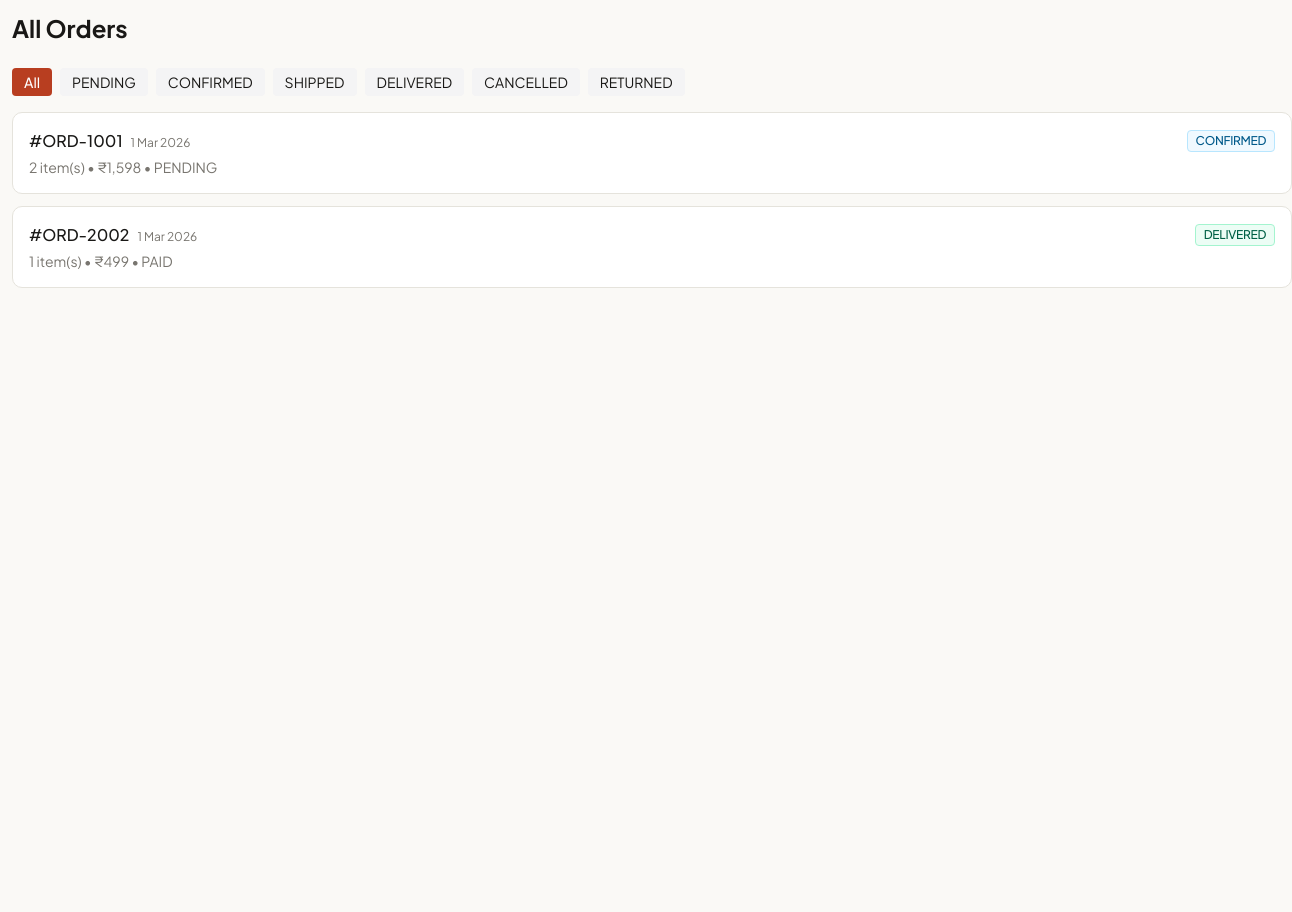
Test: Super Admin individual order navigation › opens the clicked order's details instead of the dashboard
Check: the text "#ORD-2002" is shown, box [29,224,129,245]
# Click the first order card
Click the text "#ORD-1001" at (36, 140), box [29,130,122,151]
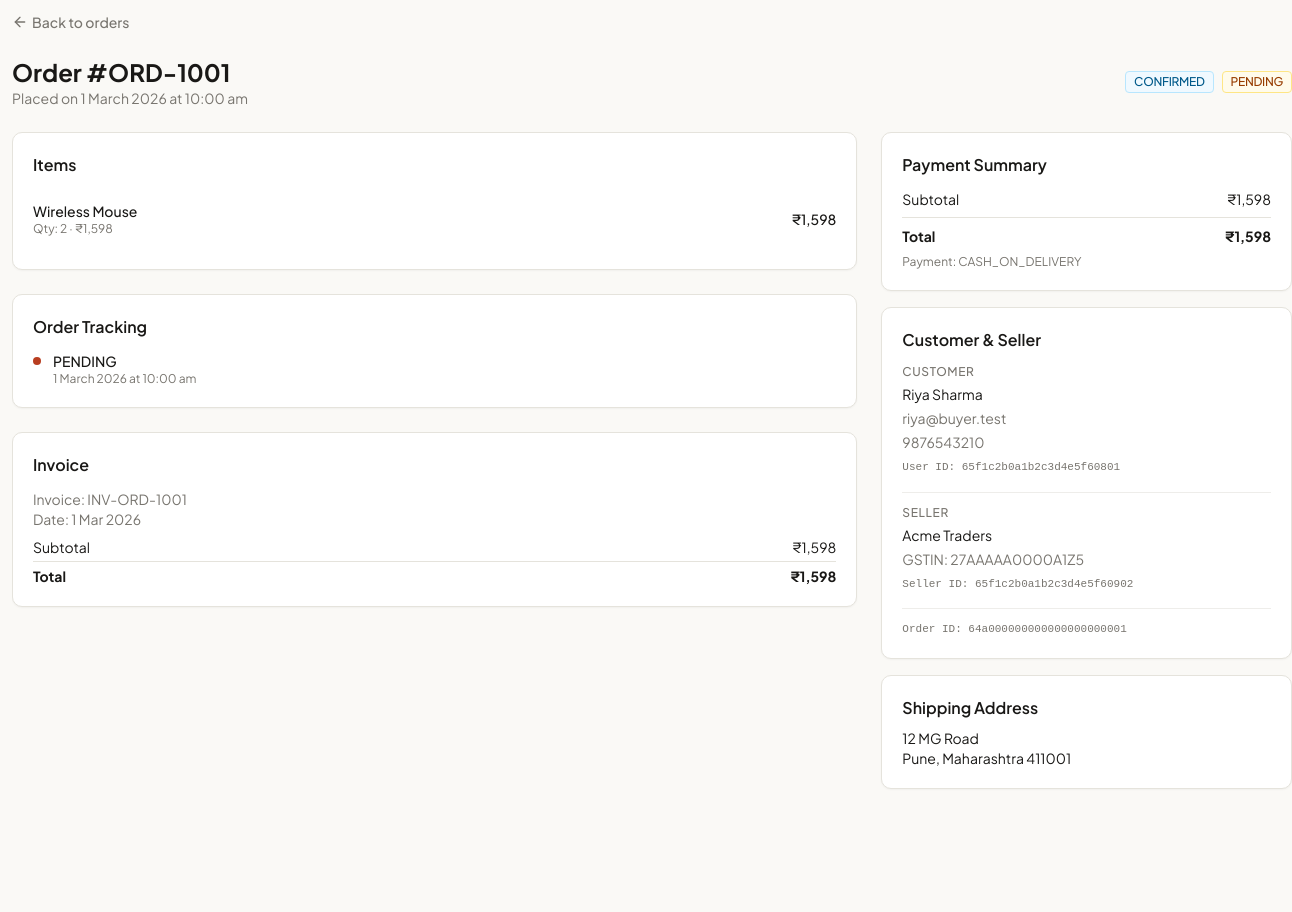
Check: the heading "Order #ORD-1001" is shown, box [12,56,248,88]
Check: the text "riya@buyer.test" is shown, box [902,409,1006,427]
Check: the text "Acme Traders" is shown, box [902,526,992,544]
